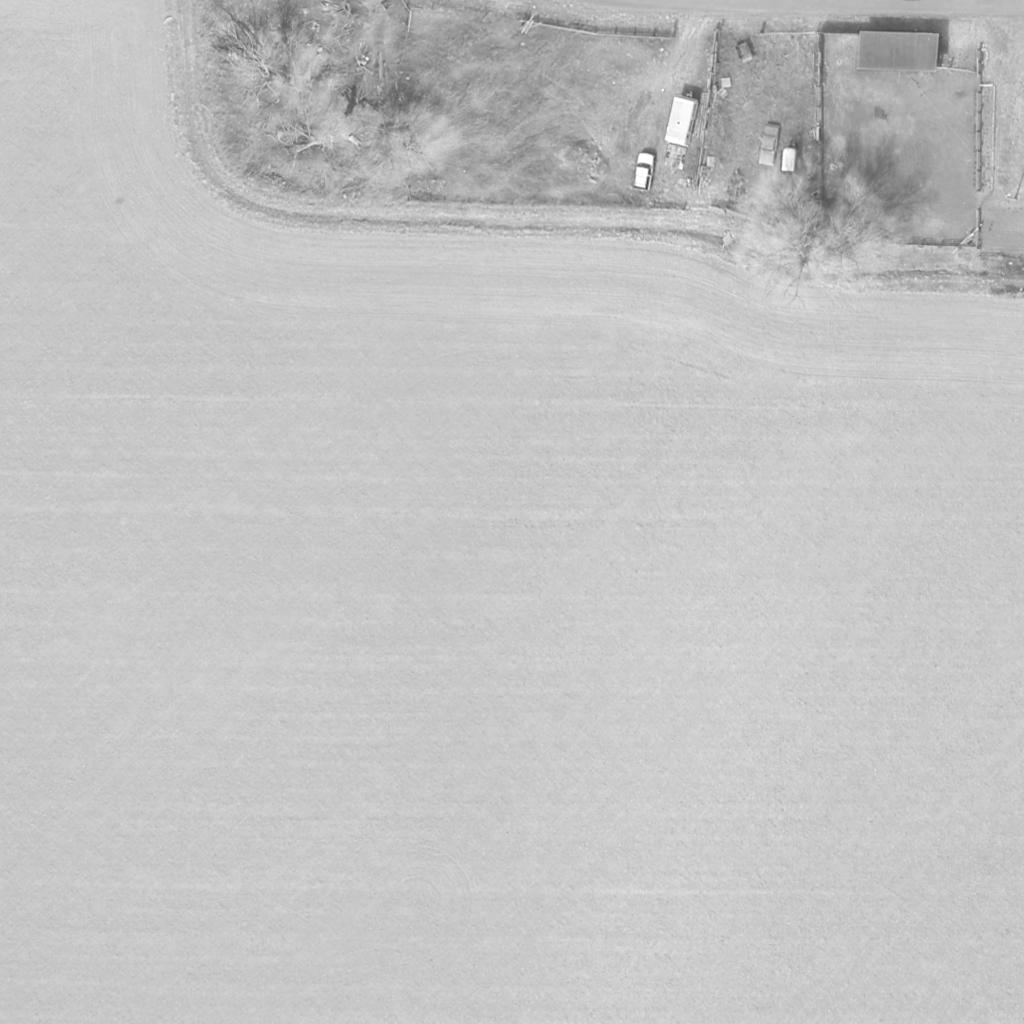vehicle: (663, 90, 699, 158), (757, 123, 783, 167), (629, 151, 653, 193)
